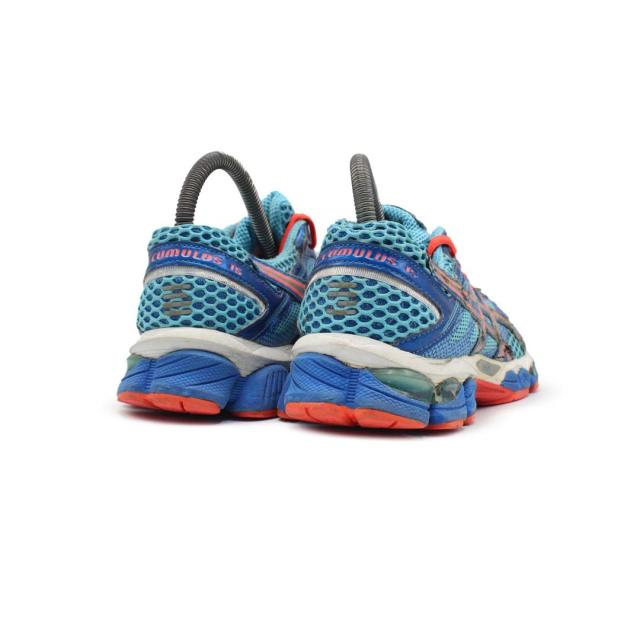heel: (299, 223, 450, 360), (138, 221, 295, 352)
midsole: (282, 334, 537, 434), (119, 330, 297, 421)
